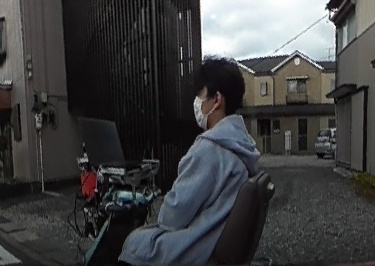person: (142, 57, 256, 266)
